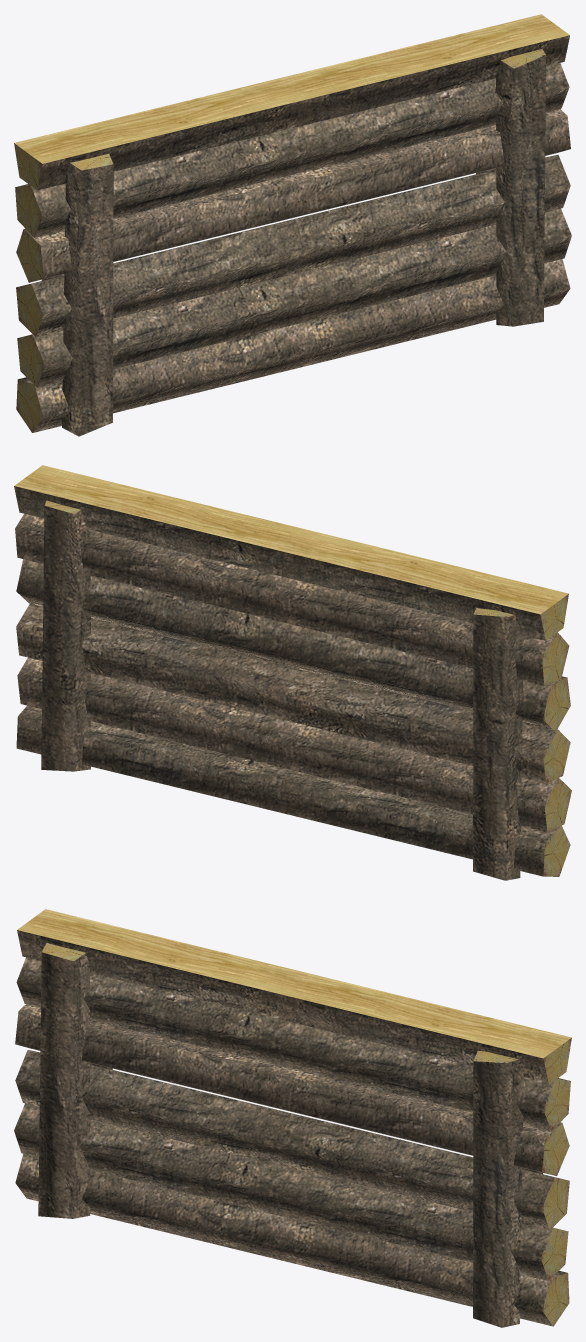
Rendered from construction_wood_wall_small_mesh.fbx.
The picture shows the model from 3 angles, top to bottom: view 1: azimuth 30°, elevation 25°; view 2: azimuth 150°, elevation 25°; view 3: azimuth 330°, elevation 25°; orthographic projection.
Visible parts, largest first — view 1: construction_wood_wall_small_mesh; view 2: construction_wood_wall_small_mesh; view 3: construction_wood_wall_small_mesh.
Boxes of the visible parts, <box> form: construction_wood_wall_small_mesh: <box>14,14,571,436</box>; construction_wood_wall_small_mesh: <box>14,465,571,880</box>; construction_wood_wall_small_mesh: <box>14,909,571,1327</box>.
Bounding box in the file's own units: 300 × 150 × 39.24.
